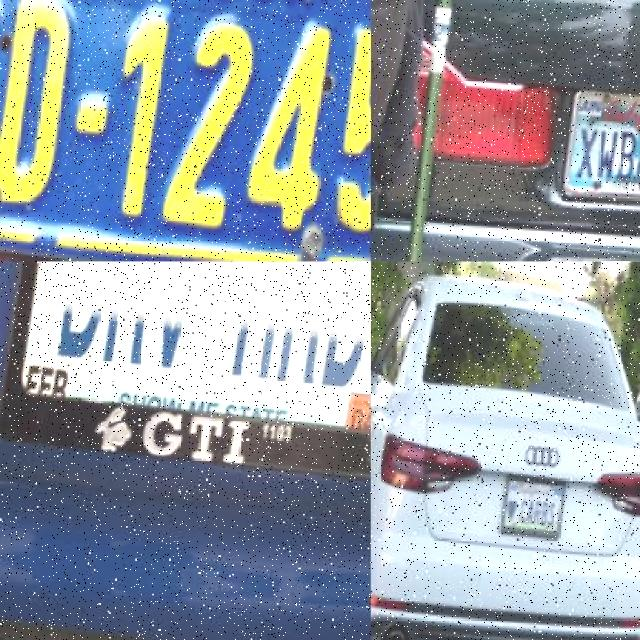licenseplate: (0, 0, 371, 240), (35, 262, 371, 392), (564, 84, 640, 203), (507, 469, 576, 533)
